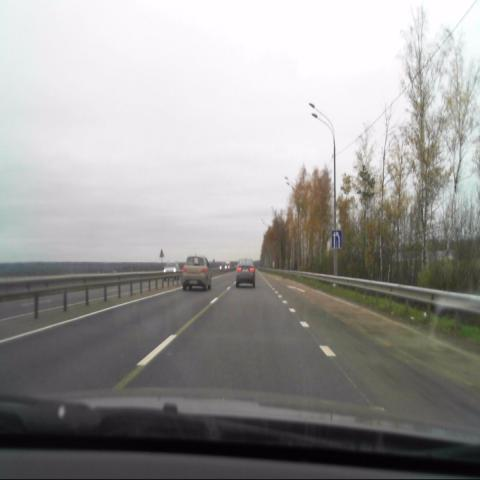5_15_5: (330, 230, 342, 249)
